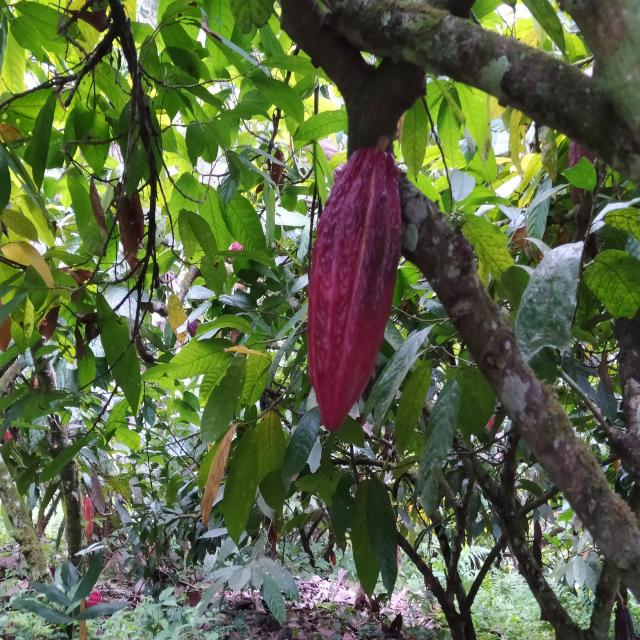Sana: (308, 148, 402, 432), (82, 497, 94, 542)
